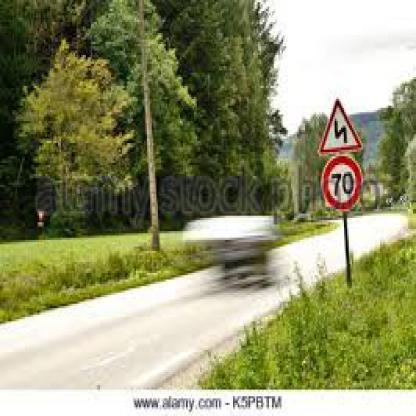Speed Limit 70: (322, 156, 363, 210)
